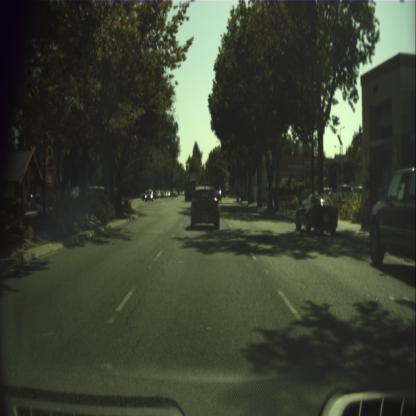Green: (205, 162, 207, 170)
